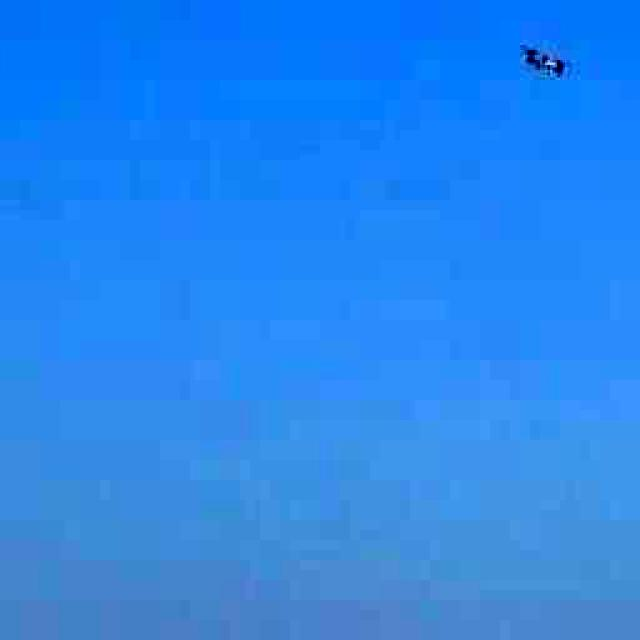bird: (500, 20, 592, 90)
